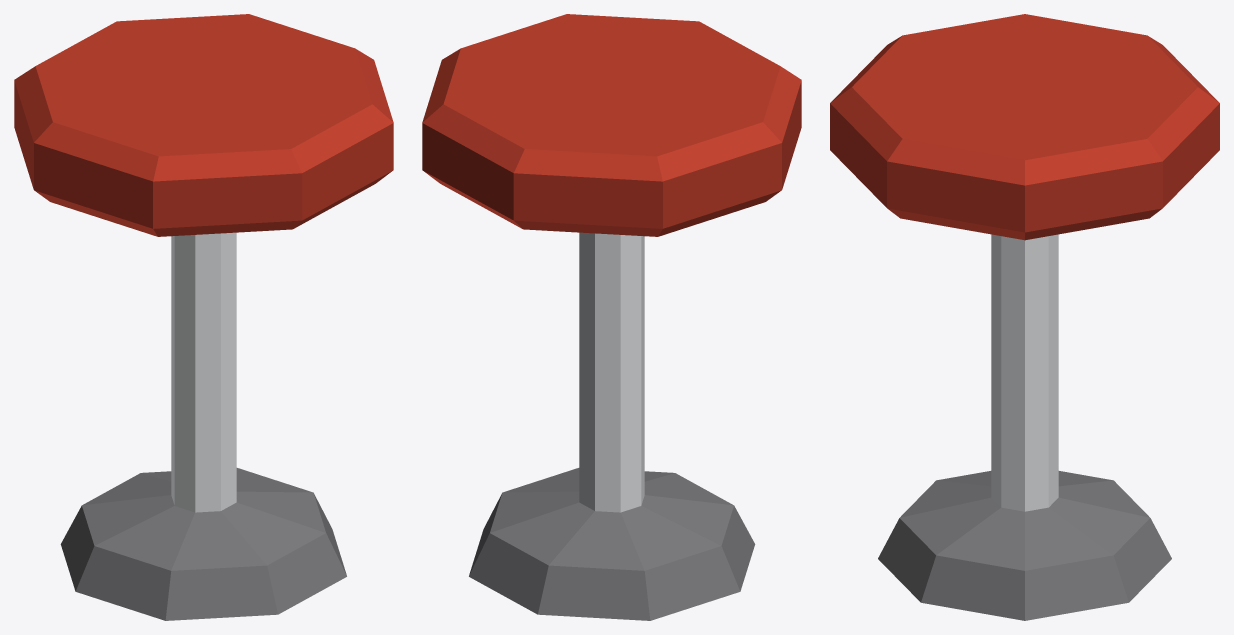
The model's file is stool.fbx.
The picture shows the model from 3 angles, left to right: view 1: azimuth 30°, elevation 25°; view 2: azimuth 150°, elevation 25°; view 3: azimuth 270°, elevation 25°; orthographic projection.
Parts seen in each view (by area): view 1: polySurface35; view 2: polySurface35; view 3: polySurface35.
Part boxes in pixels (box(x1,y1,x2,y2)): polySurface35: box(14, 14, 393, 620); polySurface35: box(422, 14, 801, 620); polySurface35: box(830, 14, 1219, 620).
Bounding box in the file's own units: 138 × 184 × 138.
